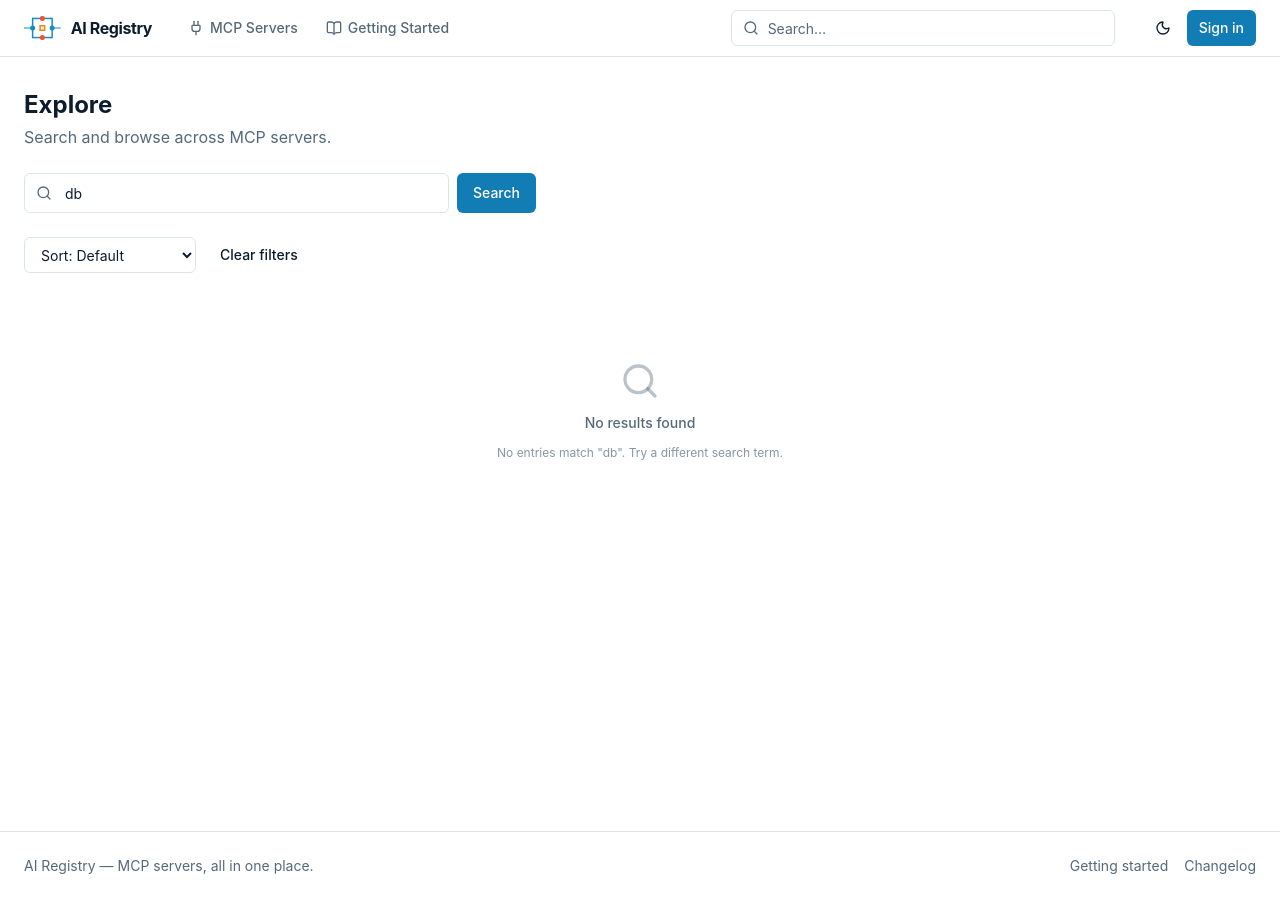
Scenario: ExplorePage › applies the sort and clears filters
Expected: the text "No results found" is shown, [585,413,695,433]
Step 1. Select "Name A–Z" in the dropdown named "sort order" → {"x": 110, "y": 255}, box [24,237,196,273]
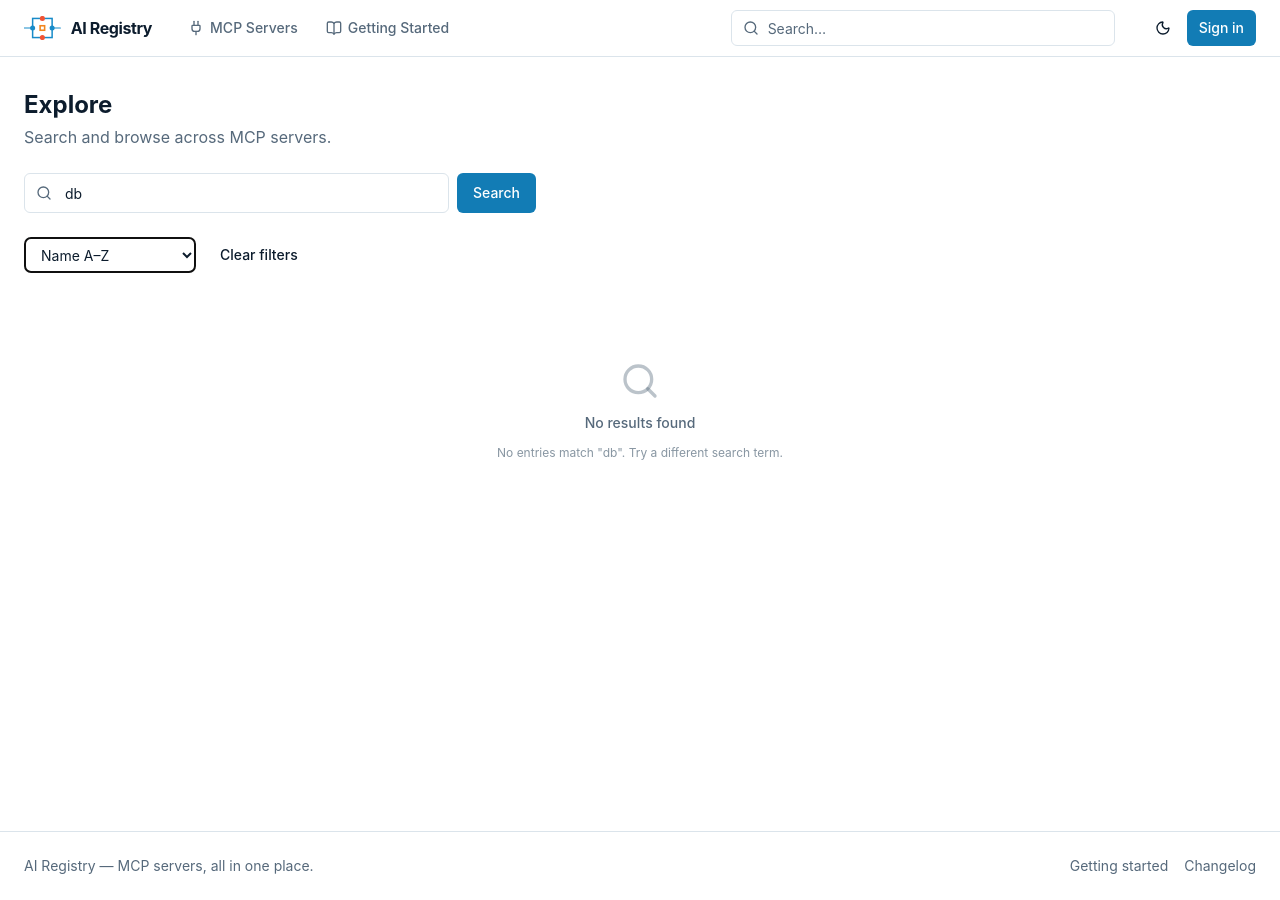
Step 2. Click the button "Clear filters" → {"x": 259, "y": 255}, box [208,237,310,273]
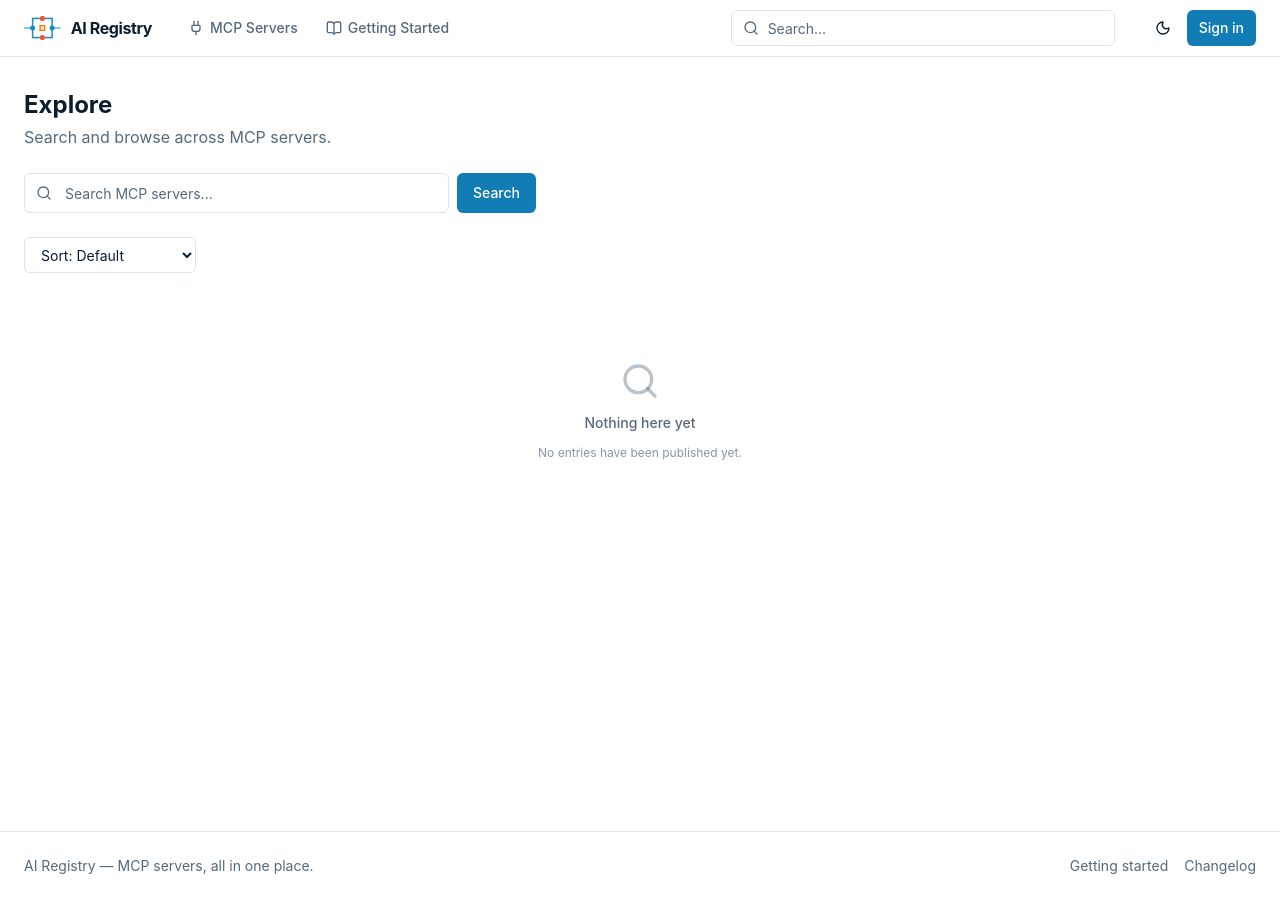
Result: the text "Nothing here yet" is shown at [584,413,696,433]
Result: the field with placeholder "Search MCP servers..." is empty at [24,173,449,213]
